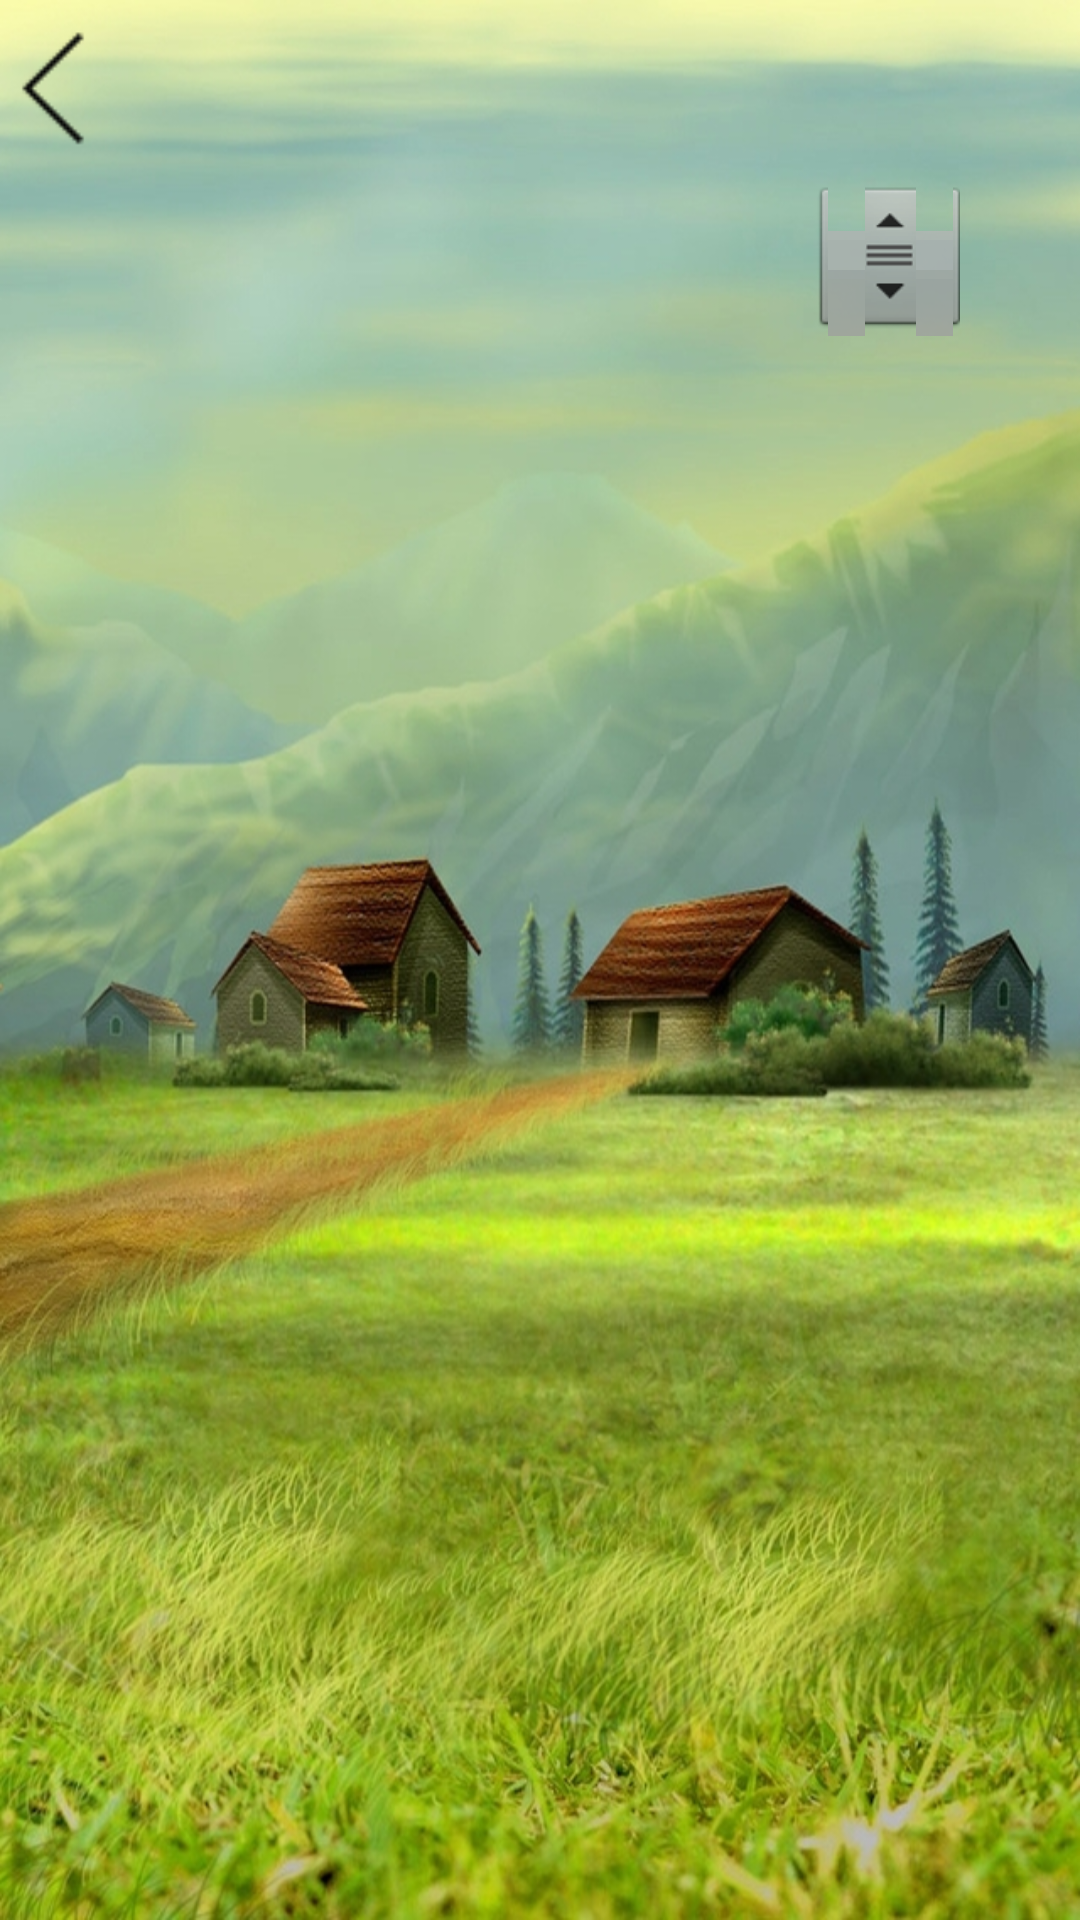

Named icons in this screenshot (1080x1920) and their centers, [x,y]:
back to listactivity: [52,90]
